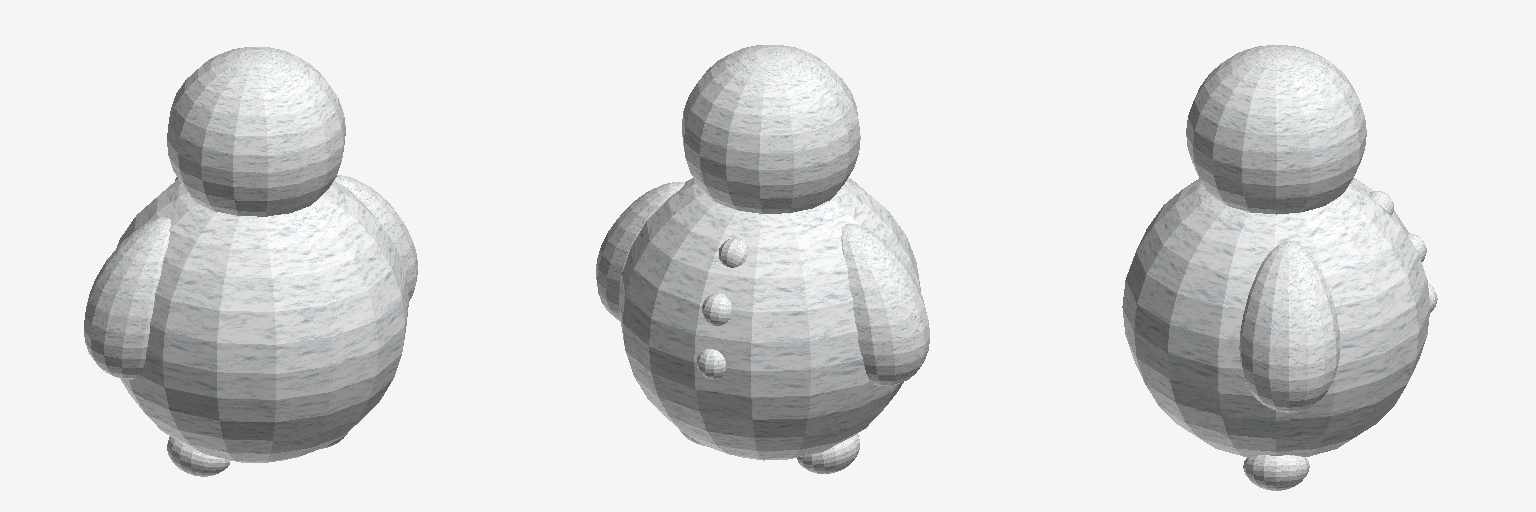
3 views of the same model, side by side, from view 1: azimuth 30°, elevation 25°; view 2: azimuth 150°, elevation 25°; view 3: azimuth 270°, elevation 25° (orthographic).
Visible parts, largest first — view 1: mCharacterSnowMan; view 2: mCharacterSnowMan; view 3: mCharacterSnowMan.
Part boxes in pixels (bbox=[...]): mCharacterSnowMan: bbox=[84, 47, 417, 476]; mCharacterSnowMan: bbox=[596, 45, 929, 473]; mCharacterSnowMan: bbox=[1122, 45, 1437, 490].
Size of the model in its own units: 1.92 by 2.31 by 1.63.
Materials: 1 (1 with a texture image).